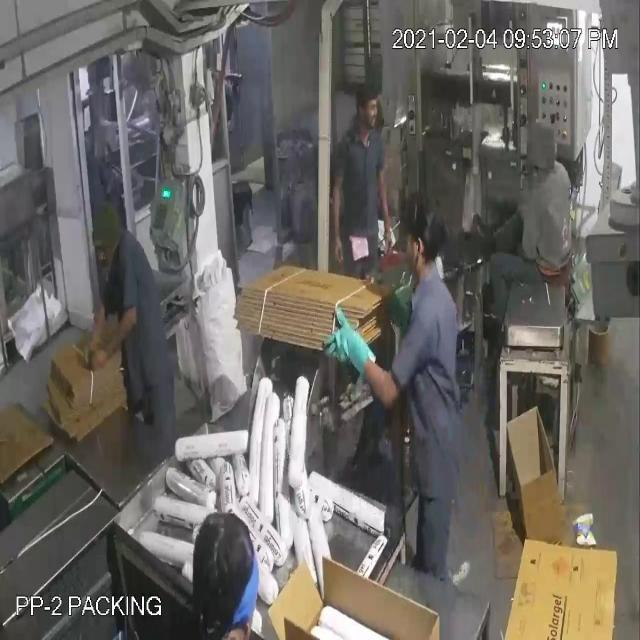No_Gloves: (28, 73, 385, 338)
